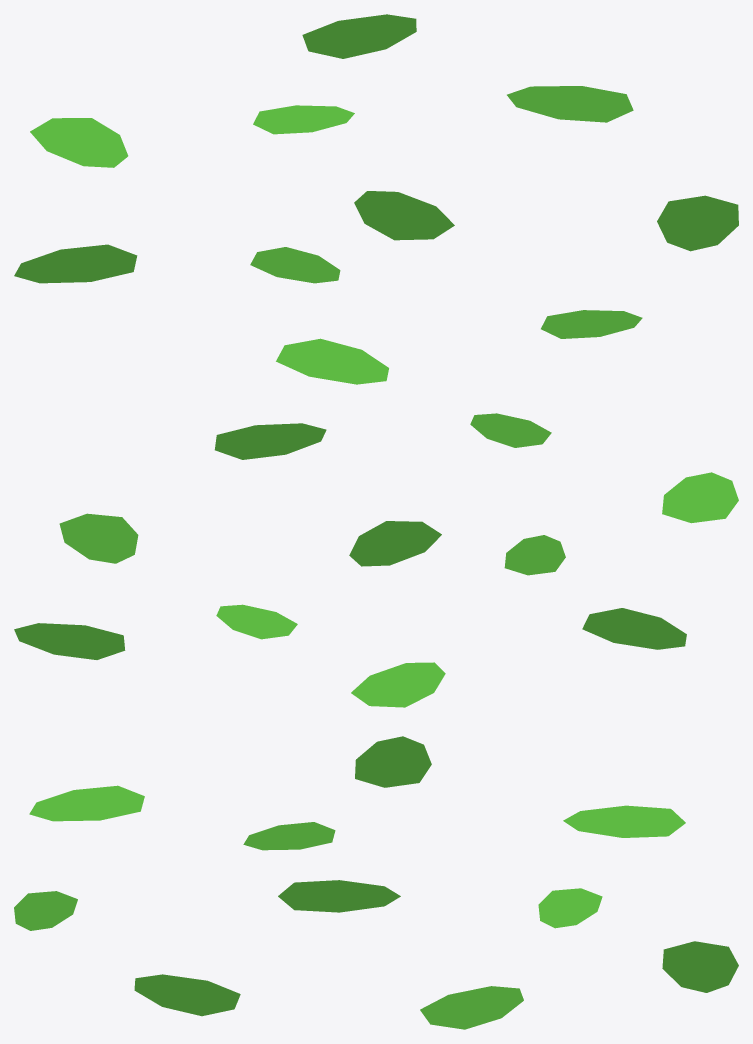
The model's file is Foliage_07.fbx.
3 renders of one model, top to bottom at view 1: azimuth 30°, elevation 25°; view 2: azimuth 150°, elevation 25°; view 3: azimuth 270°, elevation 25°, orthographic. The views are drawn at different scales.
Parts seen in each view (by area): view 1: Foliage_07; view 2: Foliage_07; view 3: Foliage_07.
Boxes of the visible parts, x1,y1,x2,y2 form: Foliage_07: (14,14,738,384); Foliage_07: (14,413,738,707); Foliage_07: (14,736,738,1029).
Bounding box in the file's own units: 75.43 × 0 × 78.76.
